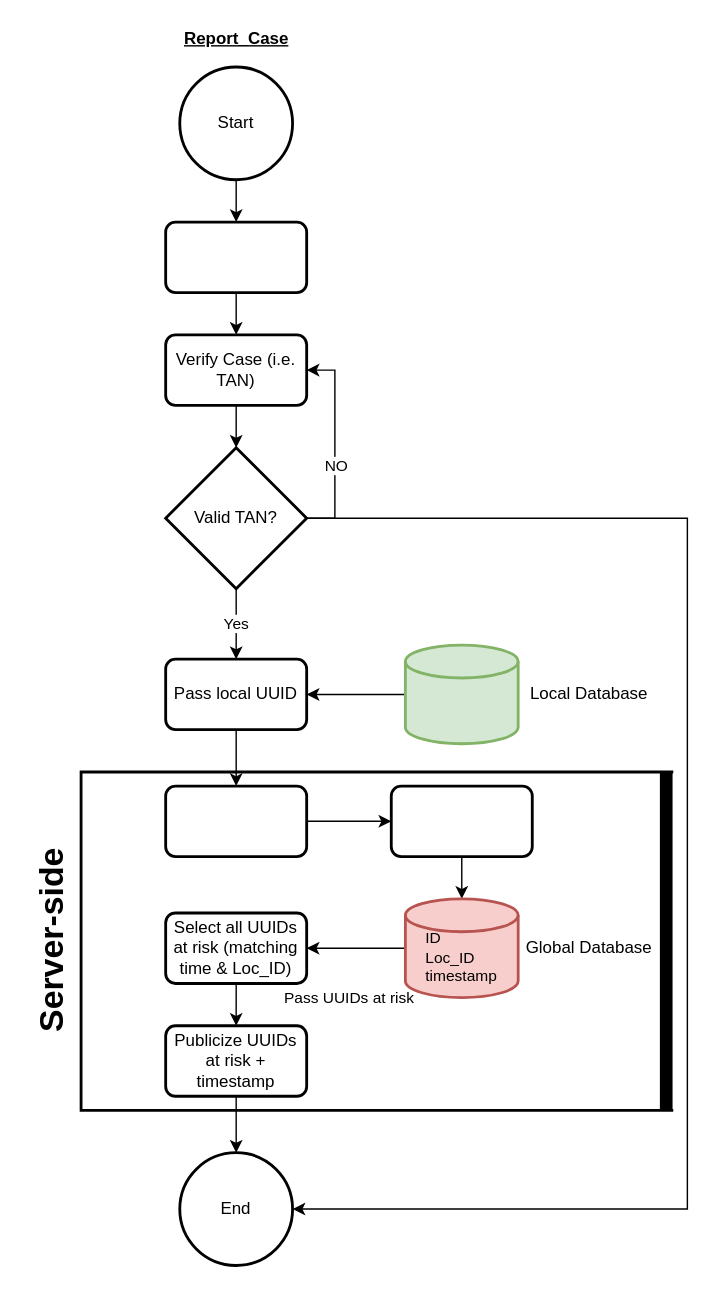
This 723x1290 diagram has some shape labels left out. The box of each missing label's shape, as (x1, y1, x2, y2) in pixels:
Calculate time-range at risk: (389, 784, 533, 857)
Get Locations & Timestamp by UUID: (164, 784, 307, 857)
Report case: (164, 220, 307, 293)
UU ID: int: (403, 643, 519, 744)
